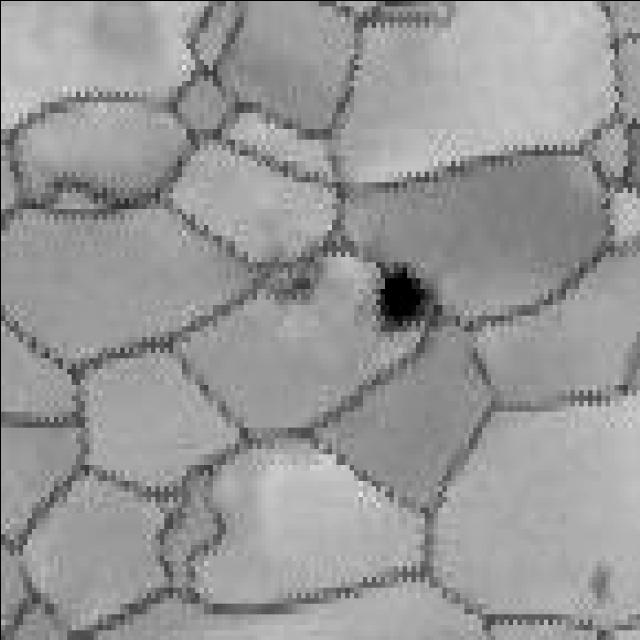good_void: (367, 263, 435, 338)
